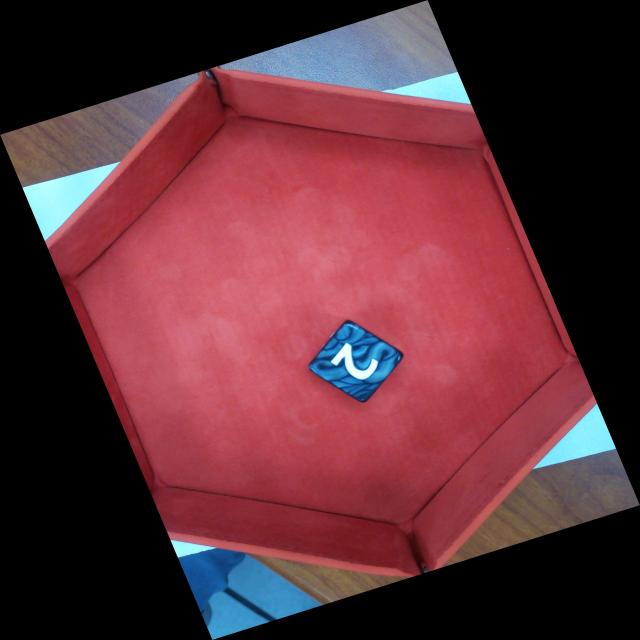dice: (307, 322, 407, 404)
